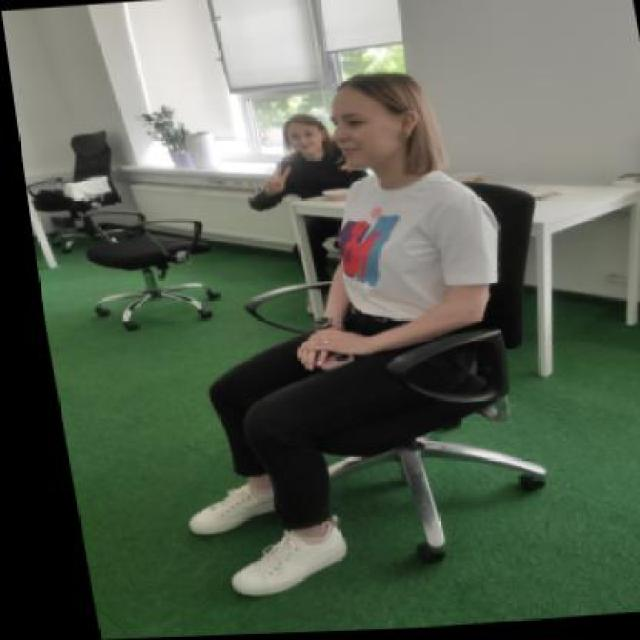chair: (222, 170, 590, 567), (12, 106, 165, 262), (62, 197, 221, 341)
